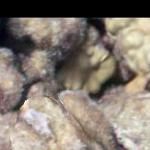alive: (1, 20, 147, 147)
